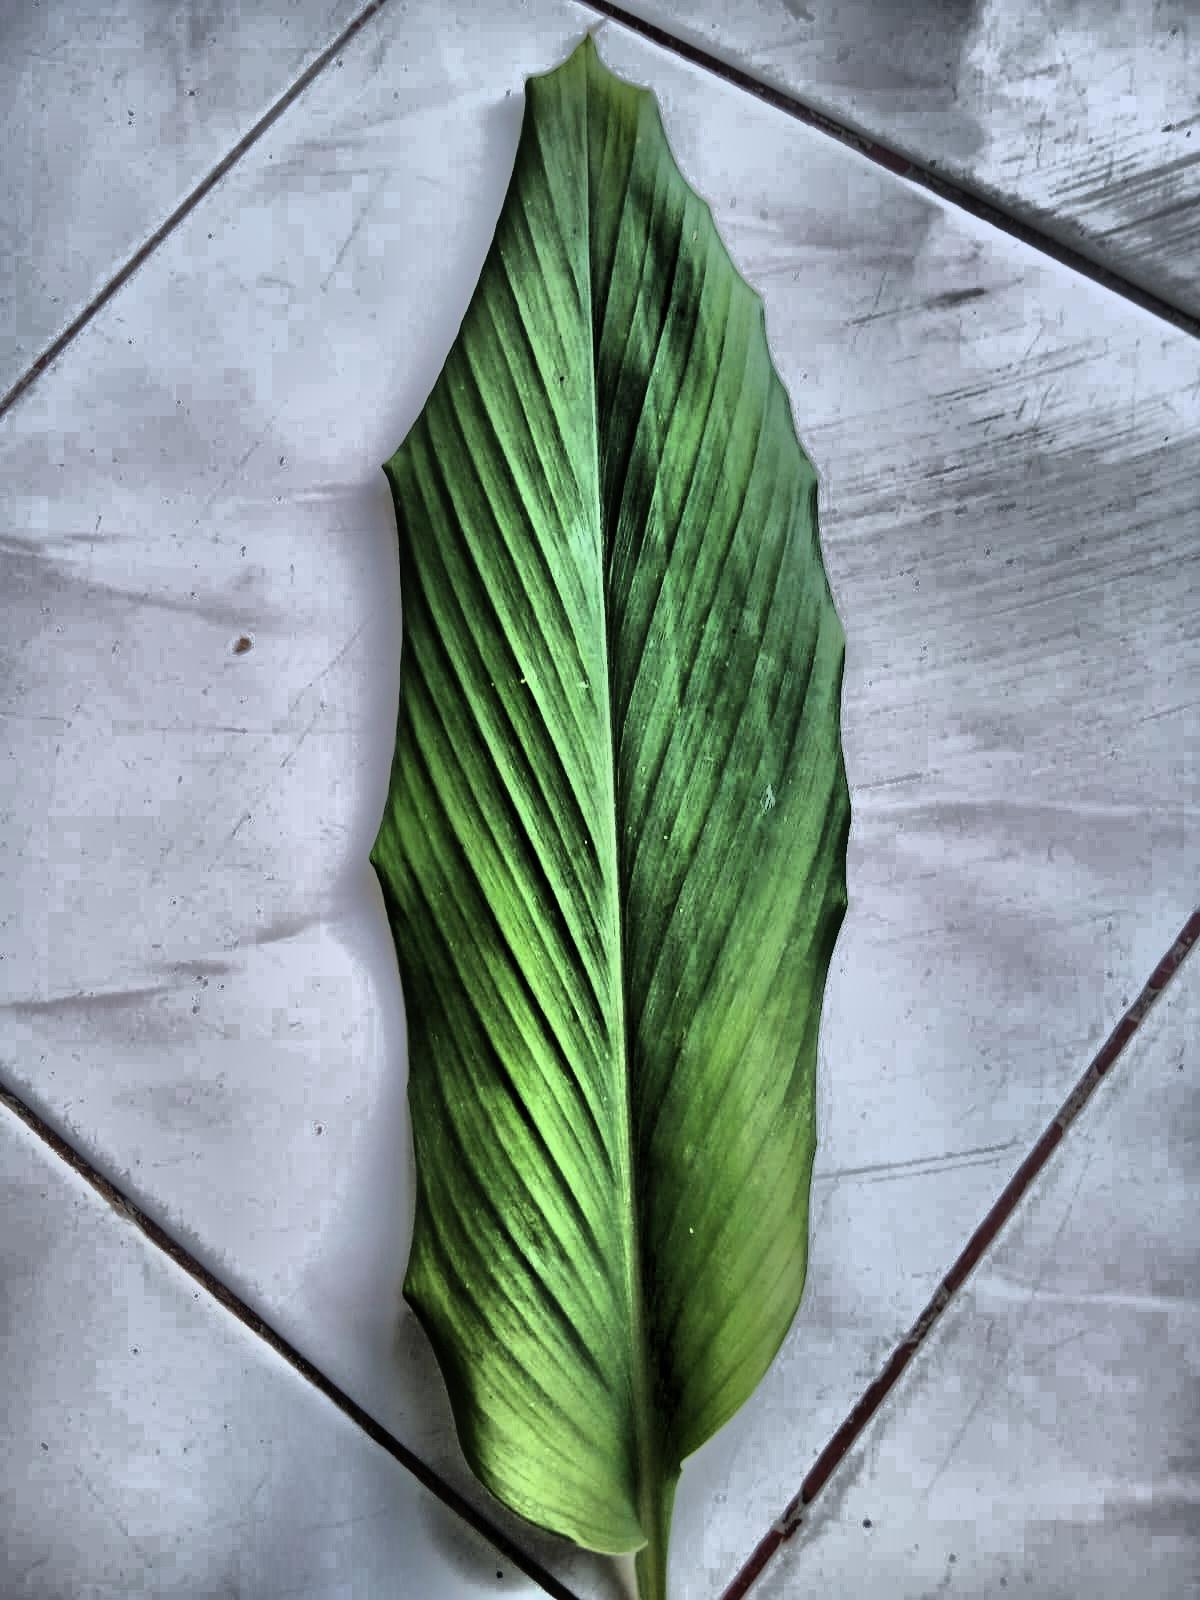daun kunyit: (372, 38, 850, 1599)
